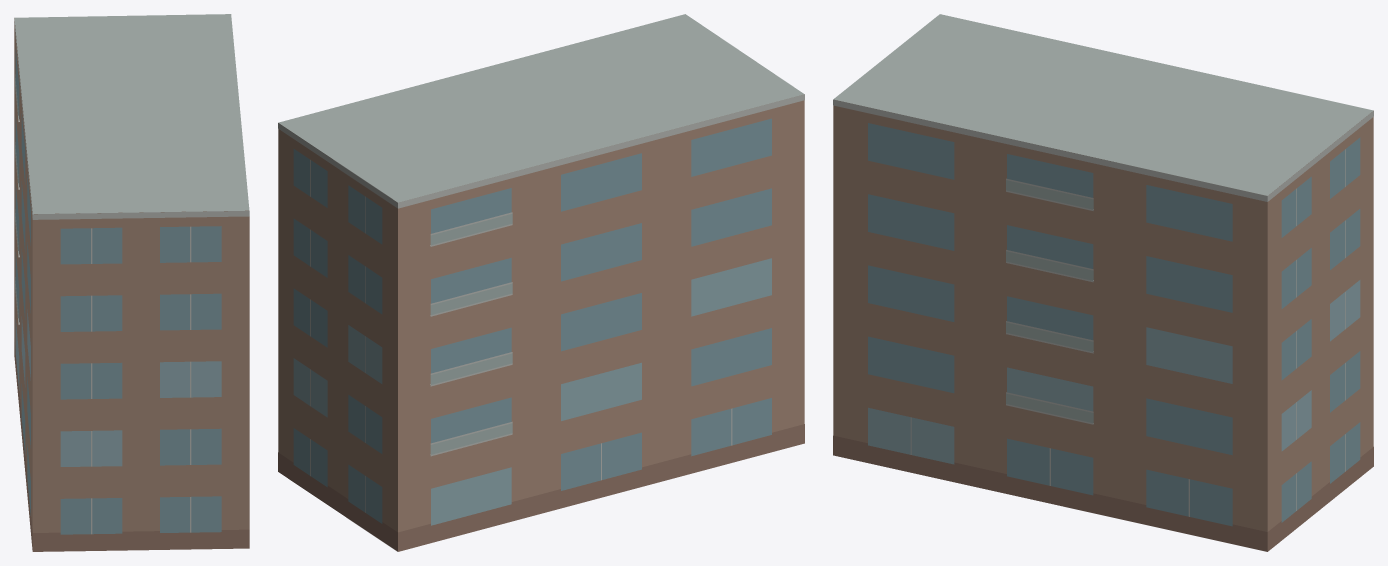
File: survey-upis-33038703.glb
3 renders of one model, left to right at view 1: azimuth 30°, elevation 25°; view 2: azimuth 150°, elevation 25°; view 3: azimuth 270°, elevation 25°, orthographic. The views are drawn at different scales.
Visible parts, largest first — view 1: survey-upis-33038703.tmp; view 2: survey-upis-33038703.tmp; view 3: survey-upis-33038703.tmp.
Part boxes in pixels (x1,y1,x2,y2): survey-upis-33038703.tmp: (14,14,249,551); survey-upis-33038703.tmp: (278,14,804,551); survey-upis-33038703.tmp: (833,14,1373,551).
Size of the model in its own units: 15.69 by 14.3 by 19.7.
